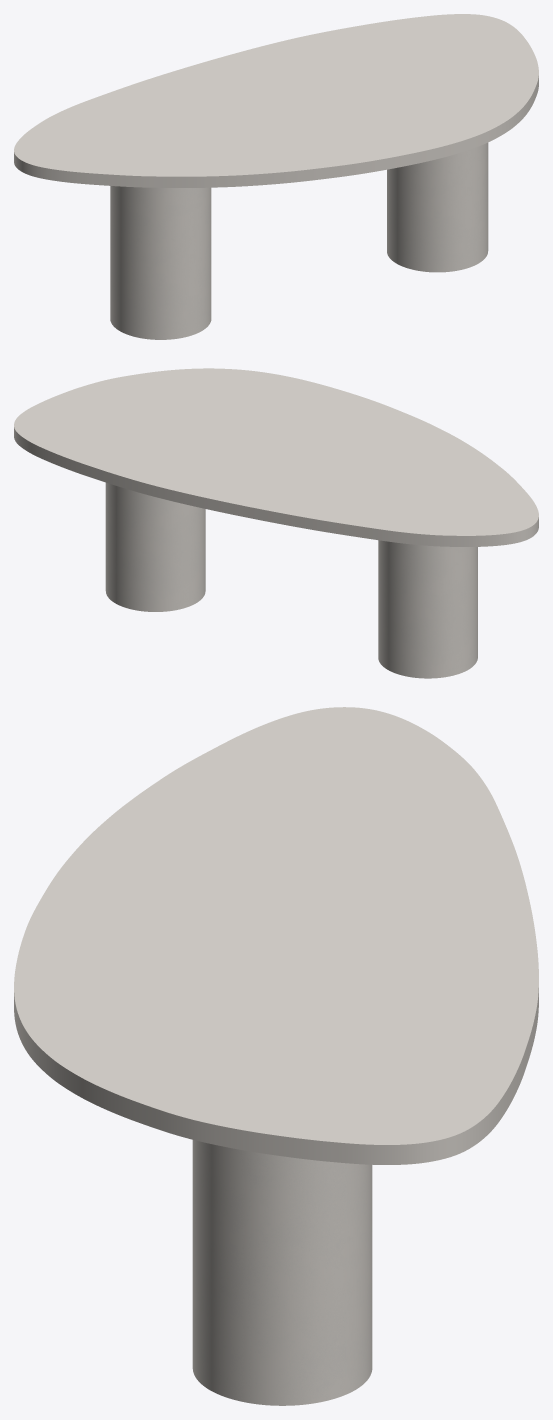
File: pearlwhite_pebbletop_standard_stream.glb
The picture shows the model from 3 angles, top to bottom: view 1: azimuth 30°, elevation 25°; view 2: azimuth 150°, elevation 25°; view 3: azimuth 270°, elevation 25°; orthographic projection. The views are drawn at different scales.
Visible parts, largest first — view 1: standard_pebbletop, stream; view 2: standard_pebbletop, stream; view 3: standard_pebbletop, stream.
Part boxes in pixels (x1,y1,x2,y2): standard_pebbletop: (14,14,538,187); stream: (110,142,488,339); standard_pebbletop: (14,368,538,546); stream: (105,482,477,678); standard_pebbletop: (14,707,538,1164); stream: (192,1140,372,1405).
Bounding box in the file's own units: 7.5 × 2.51 × 3.8.
1 material, 1 textured.
